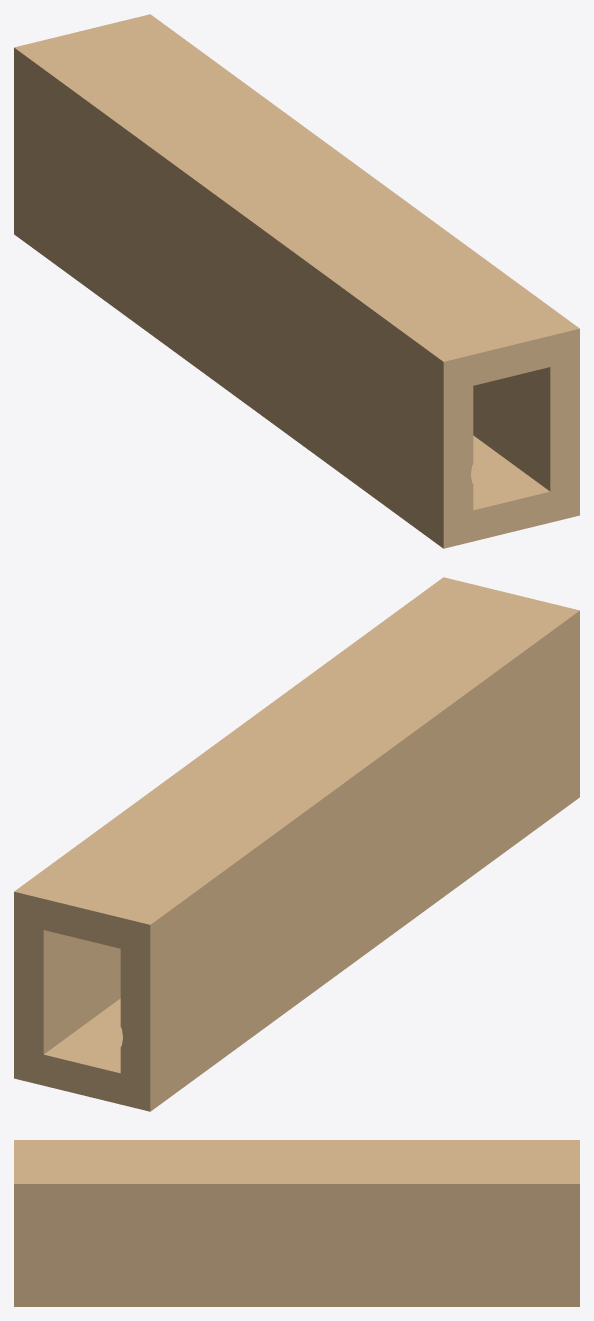
The model's file is tinker.obj.
The picture shows the model from 3 angles, top to bottom: view 1: azimuth 30°, elevation 25°; view 2: azimuth 150°, elevation 25°; view 3: azimuth 270°, elevation 25°; orthographic projection. The views are drawn at different scales.
Parts seen in each view (by area): view 1: obj_0; view 2: obj_0; view 3: obj_0.
Part boxes in pixels (left/top/right/bottom): obj_0: left=14, top=14, right=579, bottom=548; obj_0: left=14, top=577, right=579, bottom=1111; obj_0: left=14, top=1140, right=579, bottom=1306.
Bounding box in the file's own units: 55 × 72 × 300.
